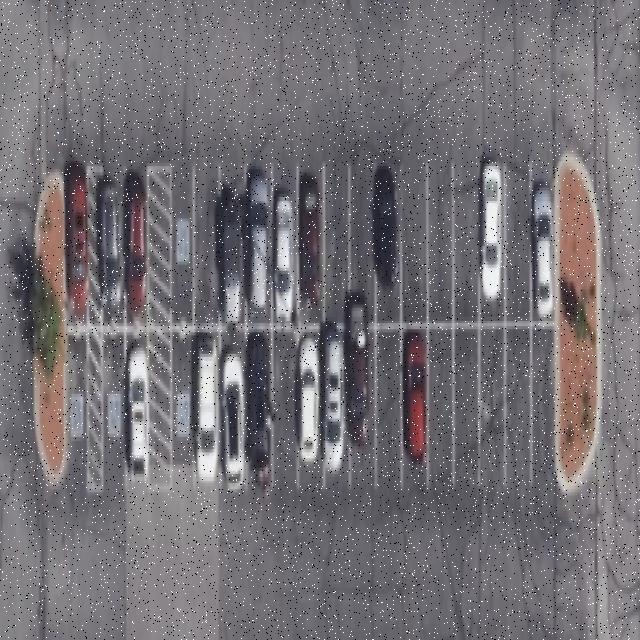Empty: (452, 161, 480, 323), (478, 323, 506, 484), (400, 165, 428, 322), (504, 324, 532, 481), (530, 323, 558, 477), (454, 327, 481, 483), (273, 326, 299, 487), (170, 331, 196, 489), (195, 167, 221, 325), (101, 330, 127, 486), (324, 166, 350, 322), (505, 163, 531, 319), (350, 167, 376, 321), (429, 326, 455, 480), (376, 330, 402, 482), (170, 170, 194, 326), (428, 168, 452, 324), (68, 333, 88, 493)
Parked: (348, 328, 377, 486), (246, 328, 274, 488), (400, 326, 428, 486), (324, 329, 352, 487), (479, 163, 506, 321), (298, 328, 324, 486), (247, 166, 273, 322), (299, 166, 325, 322), (531, 166, 557, 322), (220, 167, 246, 321), (273, 170, 299, 322), (196, 326, 220, 489), (222, 329, 246, 491), (102, 172, 126, 332), (376, 186, 402, 326), (68, 165, 88, 328), (128, 167, 148, 326), (128, 331, 148, 489)
